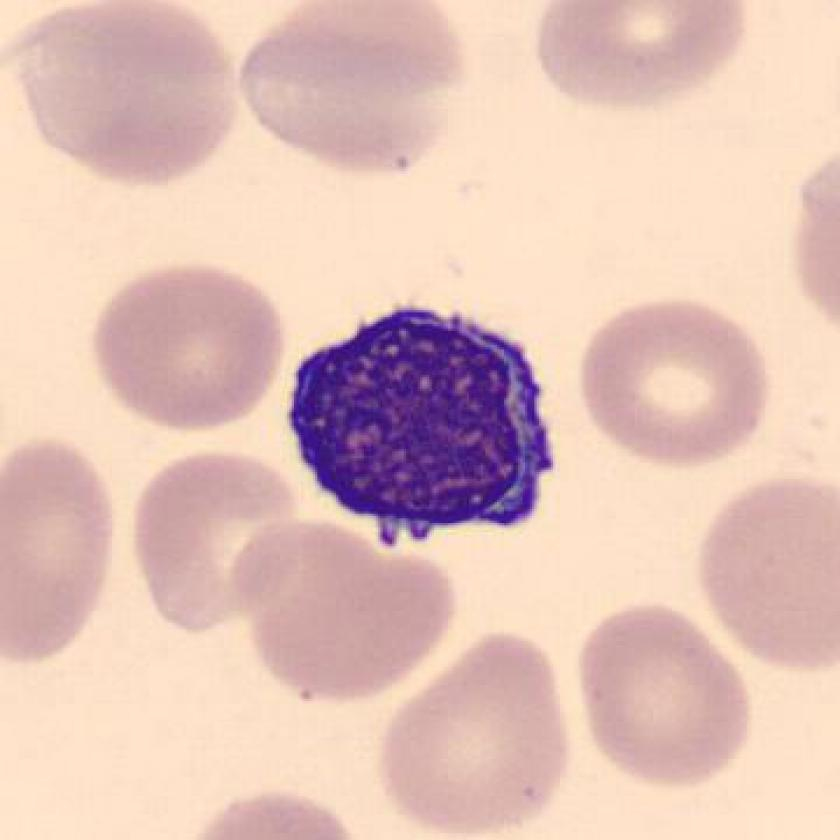lymphocyte: (279, 293, 561, 566)
